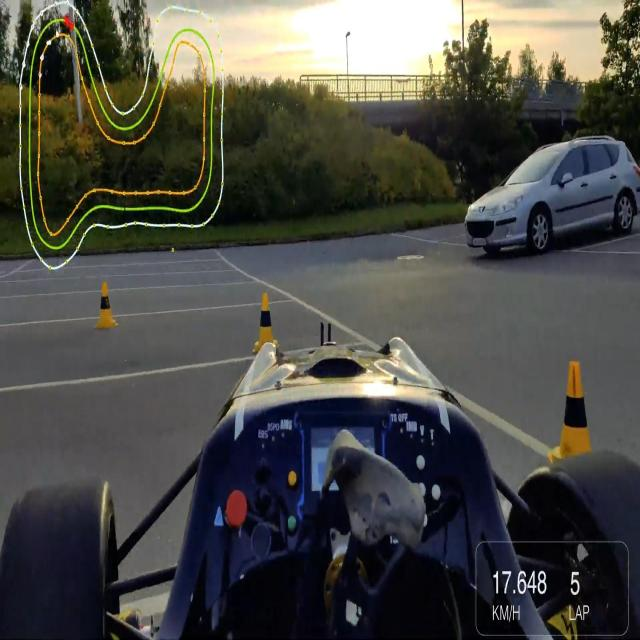yellow_cone: (550, 358, 594, 451), (253, 290, 280, 354), (93, 276, 117, 332)
